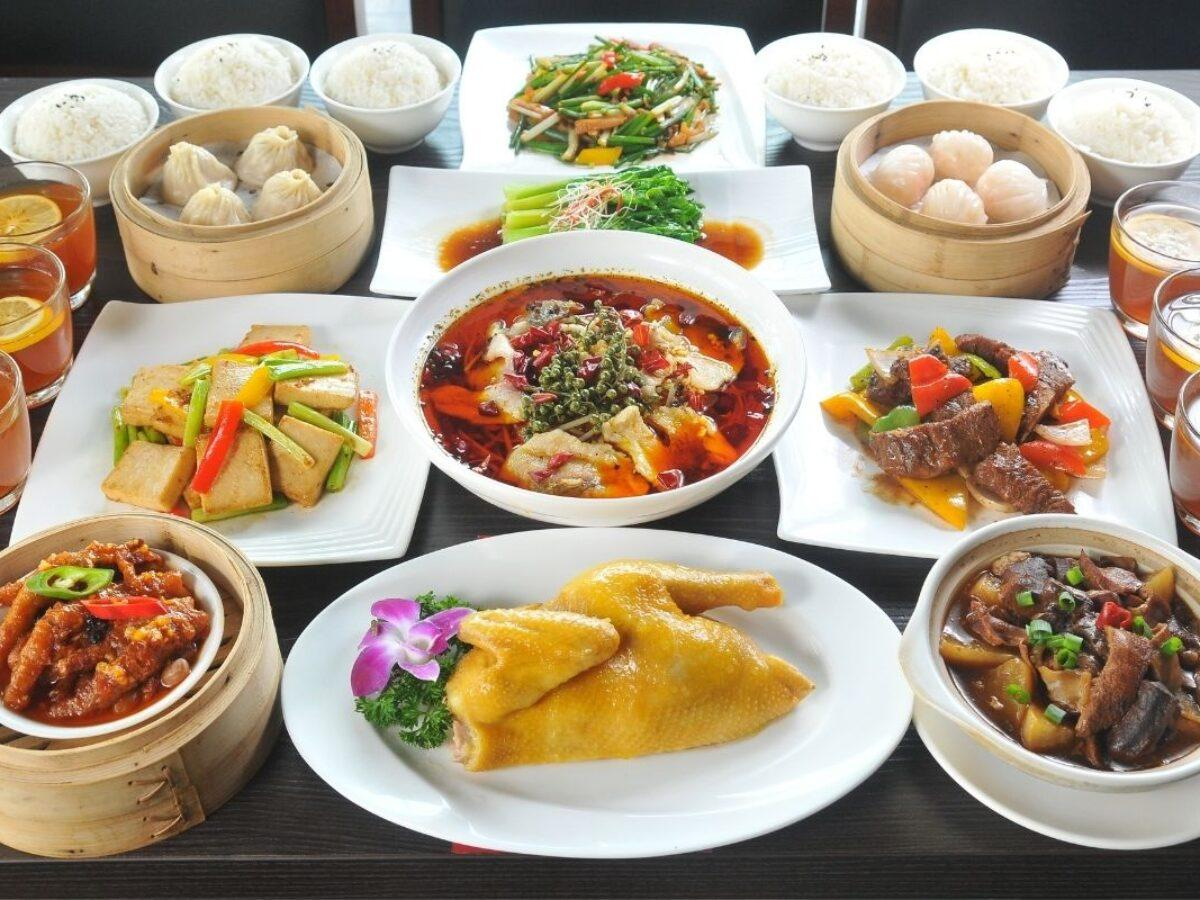Braised Crucian Carp: (281, 528, 883, 856), (382, 232, 791, 525), (14, 292, 427, 566), (768, 288, 1173, 557), (898, 514, 1198, 841), (3, 520, 279, 856), (386, 164, 827, 296), (831, 101, 1091, 298), (111, 107, 371, 302), (453, 21, 767, 171)
